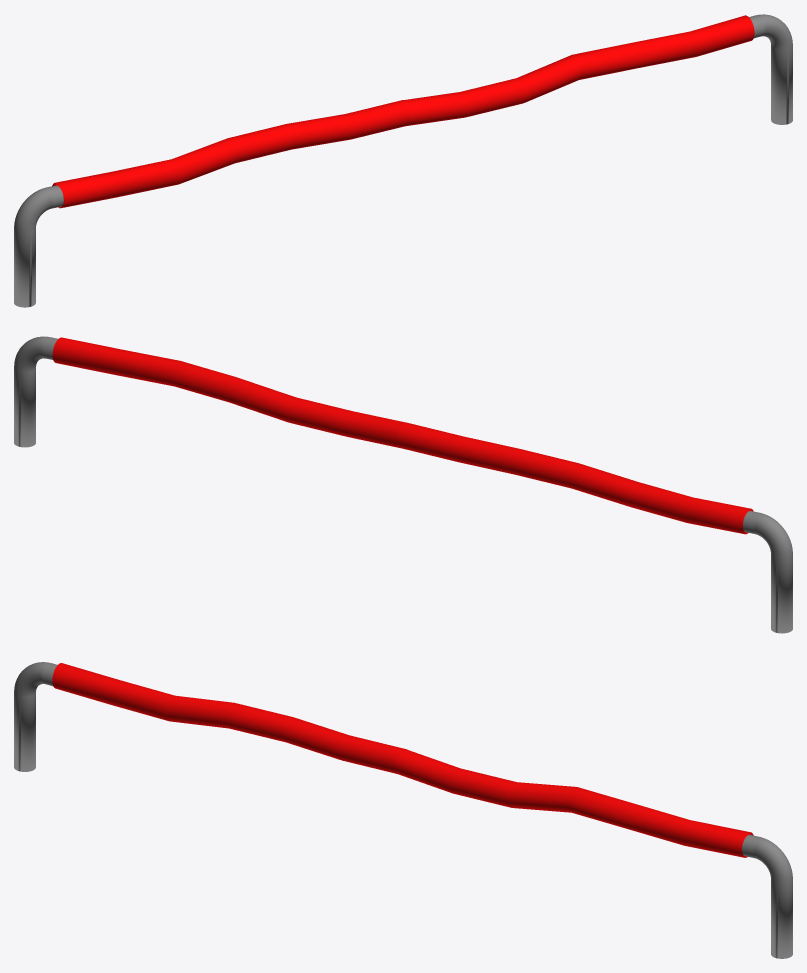
File: cable_rojo_30.fbx
The picture shows the model from 3 angles, top to bottom: view 1: azimuth 30°, elevation 25°; view 2: azimuth 150°, elevation 25°; view 3: azimuth 330°, elevation 25°; orthographic projection.
Visible parts, largest first — view 1: Cilindro_rojo_ext_30, Cilindro_rojo_int_30; view 2: Cilindro_rojo_ext_30, Cilindro_rojo_int_30; view 3: Cilindro_rojo_ext_30, Cilindro_rojo_int_30.
Boxes of the visible parts, <box> form: Cilindro_rojo_ext_30: <box>52,15,754,208</box>; Cilindro_rojo_int_30: <box>14,14,792,307</box>; Cilindro_rojo_ext_30: <box>52,337,753,534</box>; Cilindro_rojo_int_30: <box>14,336,792,633</box>; Cilindro_rojo_ext_30: <box>52,663,753,857</box>; Cilindro_rojo_int_30: <box>14,662,792,958</box>.
Bounding box in the file's own units: 326 × 46.42 × 13.1.
